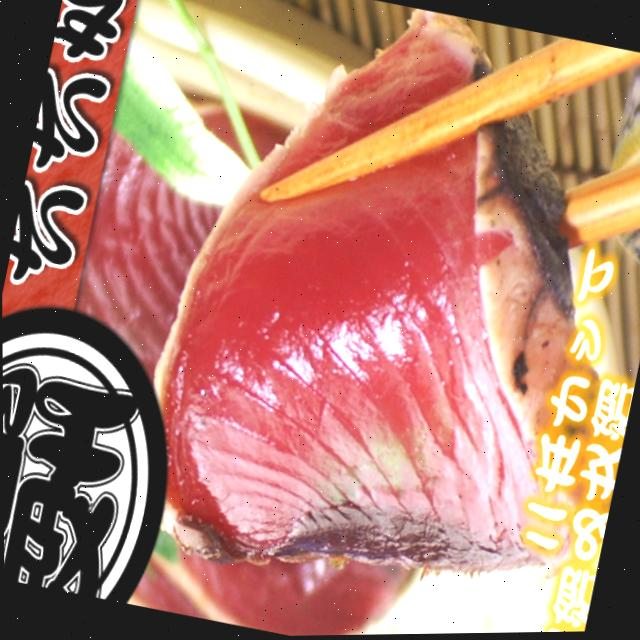熟制海鲜: (125, 0, 640, 614)
